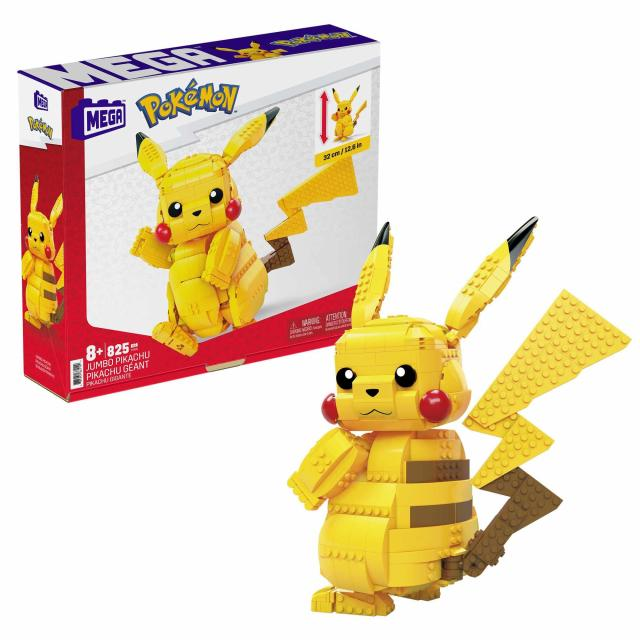Pikachu: (272, 201, 630, 617)
